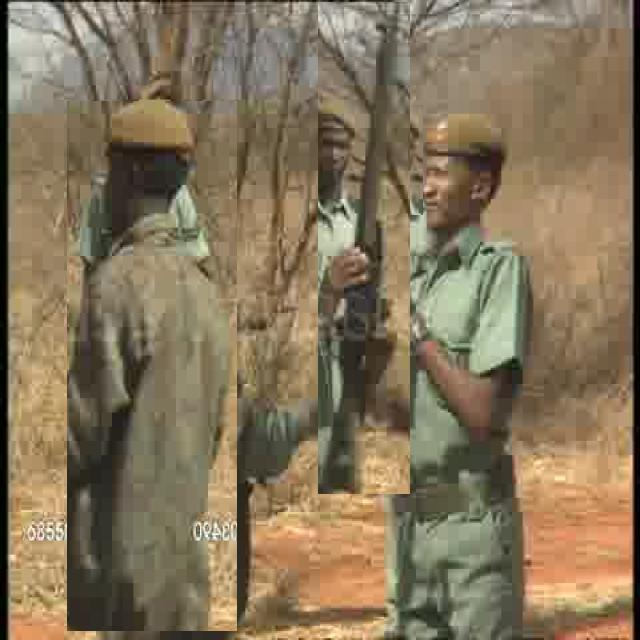poacher: (67, 101, 237, 631), (418, 100, 522, 542), (369, 105, 423, 215)
weapon: (318, 2, 411, 494)
